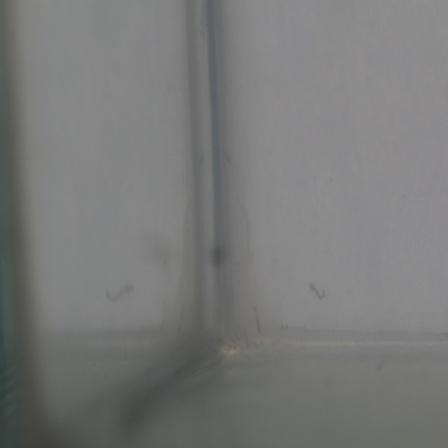Jentik-Nyamuk: (306, 276, 332, 303)
